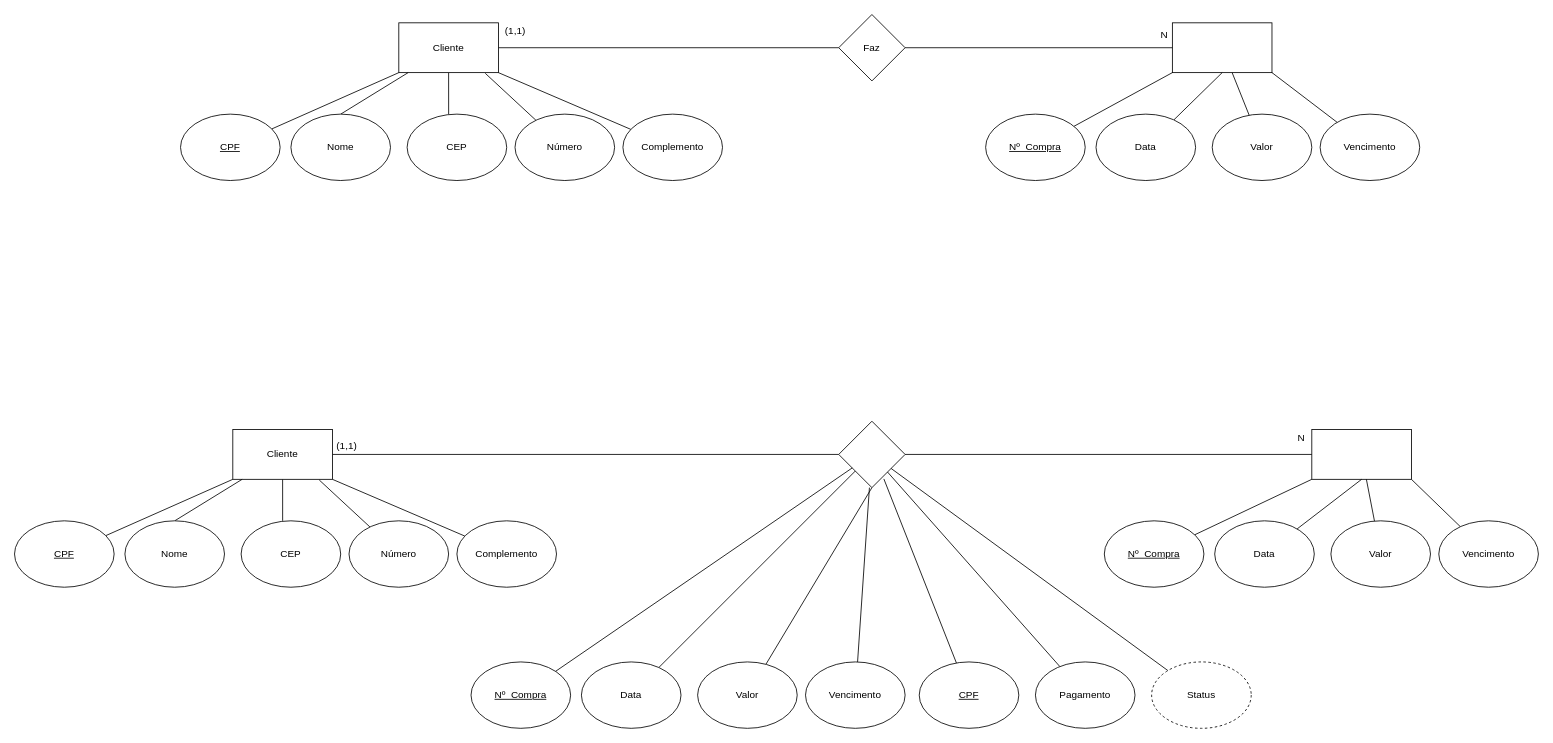
Some shapes in this 1553 by 743 pixel diagram are drawn without their labels. Each missing label, with the centre of its shape:
Compra: (x=871, y=454)
Compras: (x=1222, y=47)
Produto: (x=1361, y=454)
